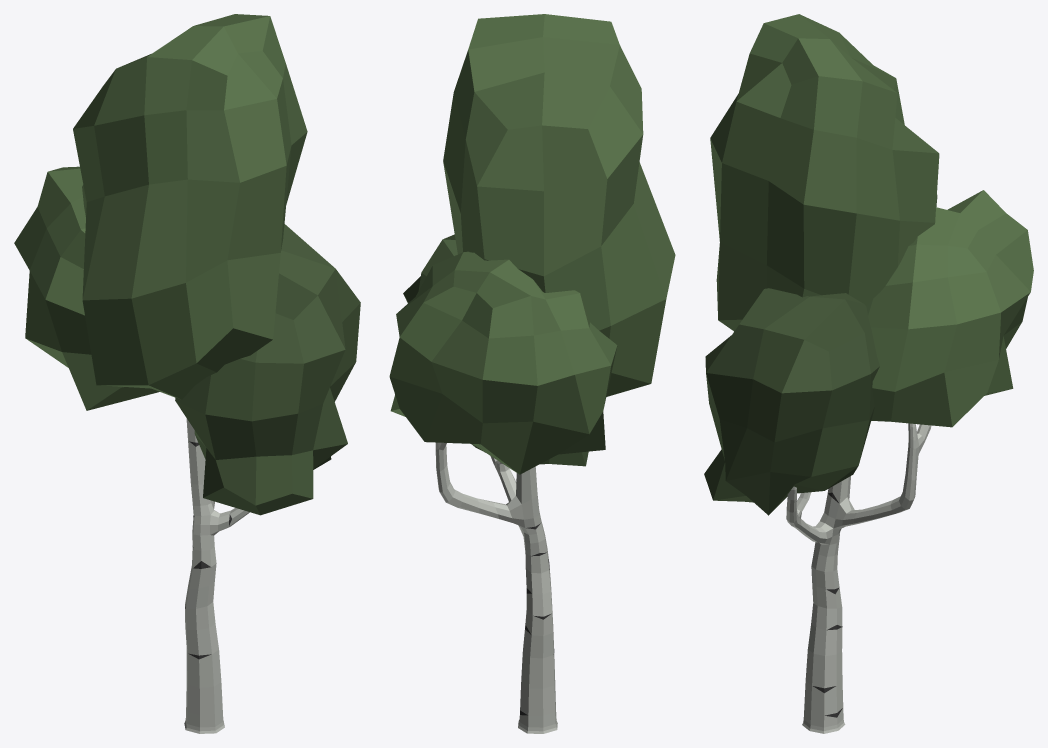
The model's file is birch3.gltf.
The picture shows the model from 3 angles, left to right: view 1: azimuth 30°, elevation 25°; view 2: azimuth 150°, elevation 25°; view 3: azimuth 270°, elevation 25°; orthographic projection. The views are drawn at different scales.
Parts seen in each view (by area): view 1: birch3; view 2: birch3; view 3: birch3.
Part boxes in pixels (x1,y1,x2,y2): birch3: (14, 14, 360, 733); birch3: (389, 14, 675, 733); birch3: (704, 14, 1033, 733).
Bounding box in the file's own units: 1.57 × 4.09 × 1.77.
